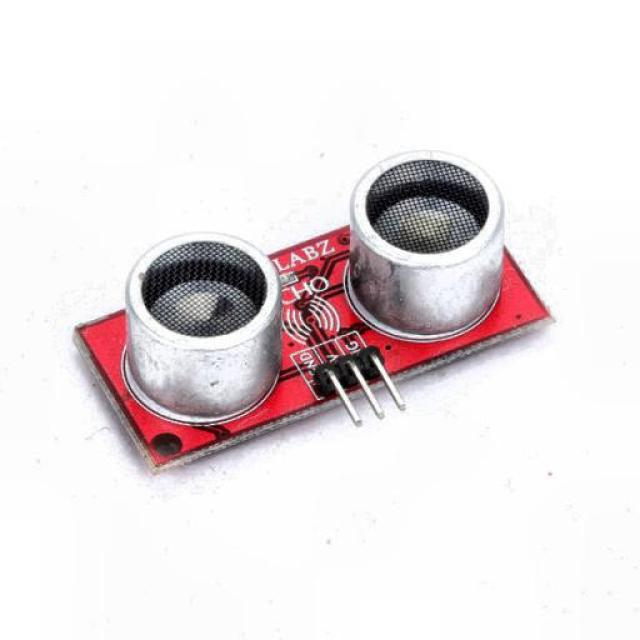Ultrasonic Sensor: (43, 116, 599, 507)
